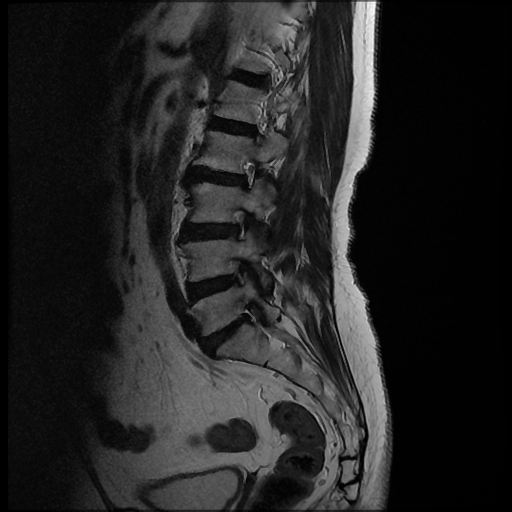LFS0: (232, 152, 263, 197)
LFS1: (222, 200, 256, 247)
